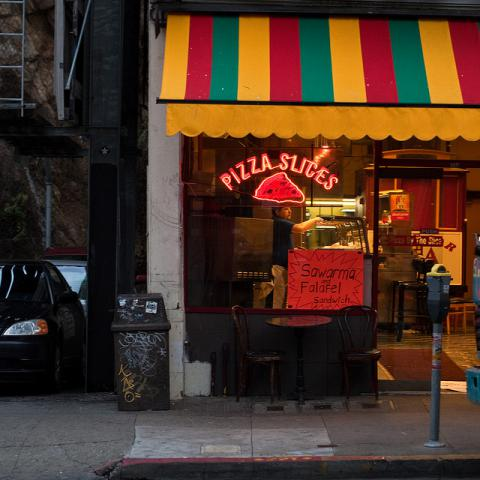car: (1, 262, 86, 391), (44, 259, 88, 320)
